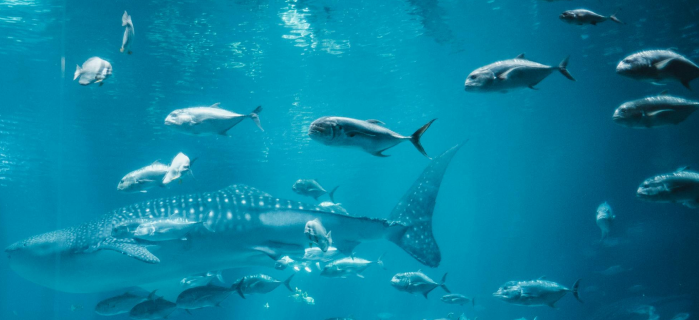fishLarge: (308, 115, 437, 158), (464, 53, 577, 95), (614, 46, 698, 93), (165, 103, 265, 140), (612, 91, 699, 131), (492, 274, 586, 311), (117, 155, 199, 193), (635, 163, 698, 211), (132, 211, 216, 244), (175, 276, 247, 313), (319, 251, 387, 280), (390, 270, 449, 300), (95, 290, 157, 318), (591, 200, 616, 261), (233, 272, 296, 296), (559, 7, 626, 28), (291, 176, 339, 205), (130, 296, 190, 318), (110, 217, 149, 240), (439, 292, 477, 307)
fishRound: (72, 57, 114, 88), (302, 217, 333, 254), (161, 152, 194, 186), (120, 11, 136, 58)
shark: (5, 136, 471, 295)
